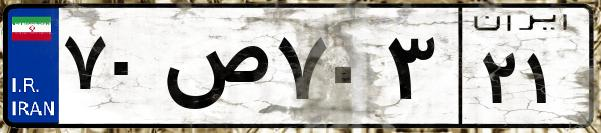0: (330, 28, 385, 110), (110, 28, 158, 98)
1: (525, 38, 570, 115)
2: (475, 38, 525, 113)
3: (385, 28, 445, 110)
7: (270, 28, 330, 110), (57, 26, 110, 100)
ص: (158, 20, 270, 120)
